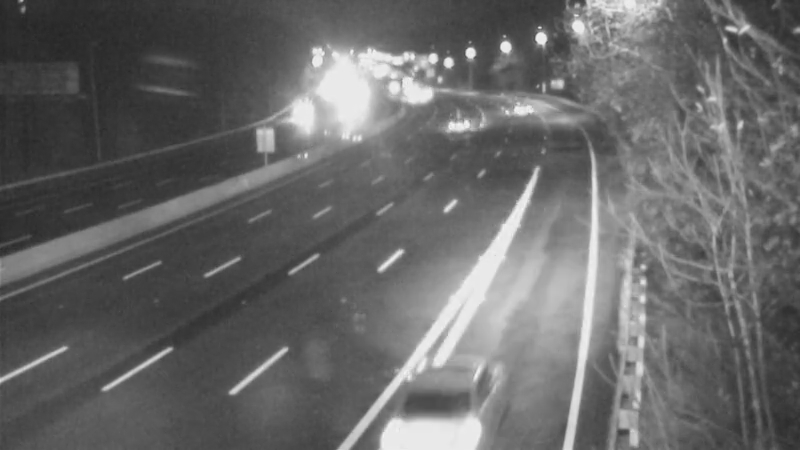vehicle: (371, 353, 481, 450), (486, 87, 536, 137), (433, 98, 483, 148), (268, 93, 318, 143)
